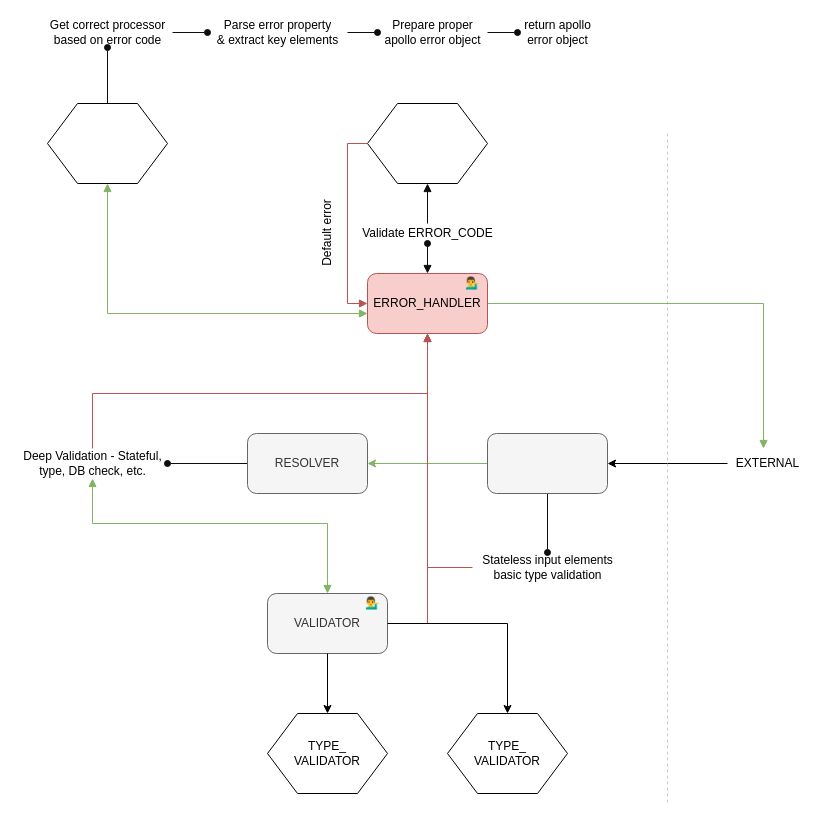
Image size: 824x821. Some labels were removed from this diagram. The shapes that lost their labels are listed below. From the top down, each one's centre as x and y in pixels, then its label:
(x=107, y=143): ERROR_ PROCESSOR
(x=427, y=143): ERROR_CODE
(x=547, y=463): SCHEMA
